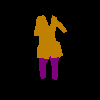fuseaux: (39, 56, 58, 80)
maglia: (34, 14, 66, 59)
